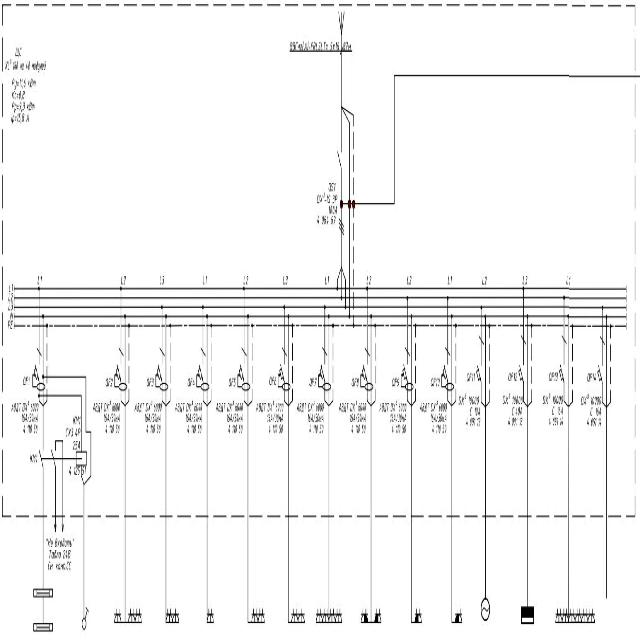-: (10, 401, 39, 436), (420, 401, 448, 436), (134, 402, 162, 437), (92, 400, 120, 435), (175, 401, 203, 436), (296, 402, 324, 437), (256, 402, 284, 436), (339, 402, 367, 436), (379, 402, 407, 436), (216, 402, 243, 436), (501, 393, 524, 428), (316, 193, 339, 228), (458, 396, 481, 430), (579, 394, 602, 428), (542, 392, 564, 427), (64, 425, 80, 451)
KM: (38, 446, 87, 470)
QF: (476, 330, 486, 388), (518, 328, 528, 386), (596, 332, 606, 389), (558, 332, 568, 388)
QFD: (399, 346, 414, 393), (440, 345, 454, 393), (277, 344, 291, 392), (360, 346, 374, 394), (114, 346, 128, 393), (155, 345, 169, 392), (196, 345, 210, 392), (318, 345, 332, 392), (32, 346, 46, 393), (237, 345, 250, 393)
QS: (337, 141, 342, 173)
